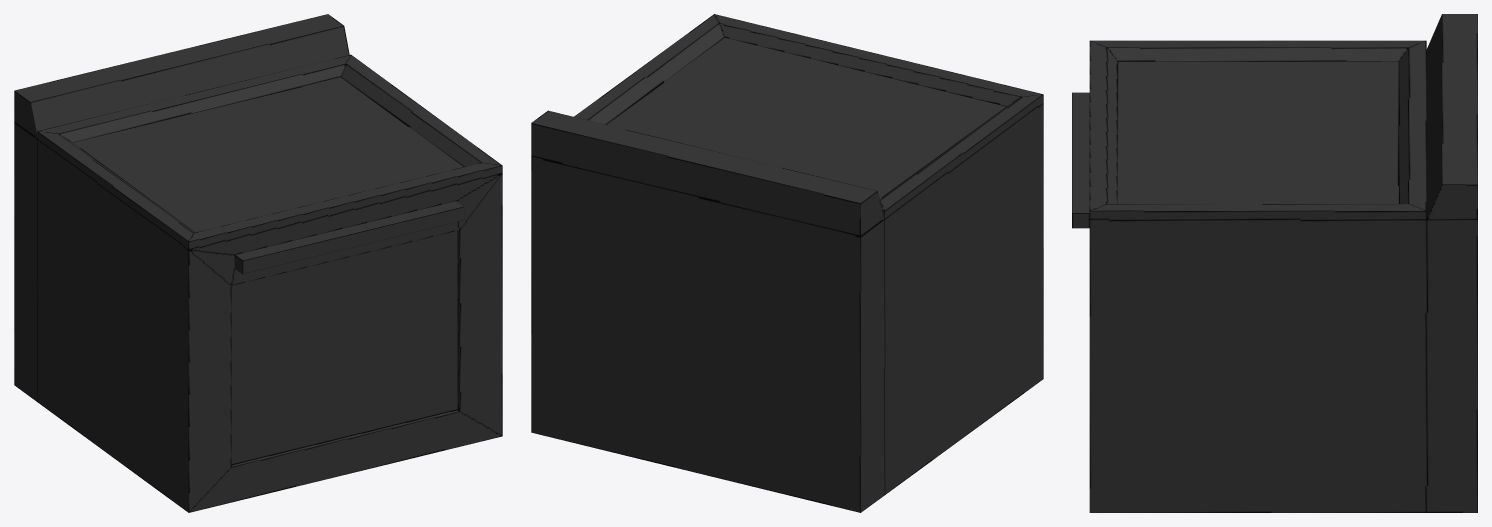
The model's file is KitchenStove.fbx.
3 renders of one model, left to right at view 1: azimuth 30°, elevation 25°; view 2: azimuth 150°, elevation 25°; view 3: azimuth 270°, elevation 25°, orthographic. The views are drawn at different scales.
Parts seen in each view (by area): view 1: KitchenStove; view 2: KitchenStove; view 3: KitchenStove.
Boxes of the visible parts, x1,y1,x2,y2 form: KitchenStove: (14, 14, 502, 512); KitchenStove: (531, 14, 1043, 512); KitchenStove: (1072, 14, 1477, 512).
Bounding box in the file's own units: 79.55 × 71.44 × 79.98.
Materials: 1 (1 with a texture image).
